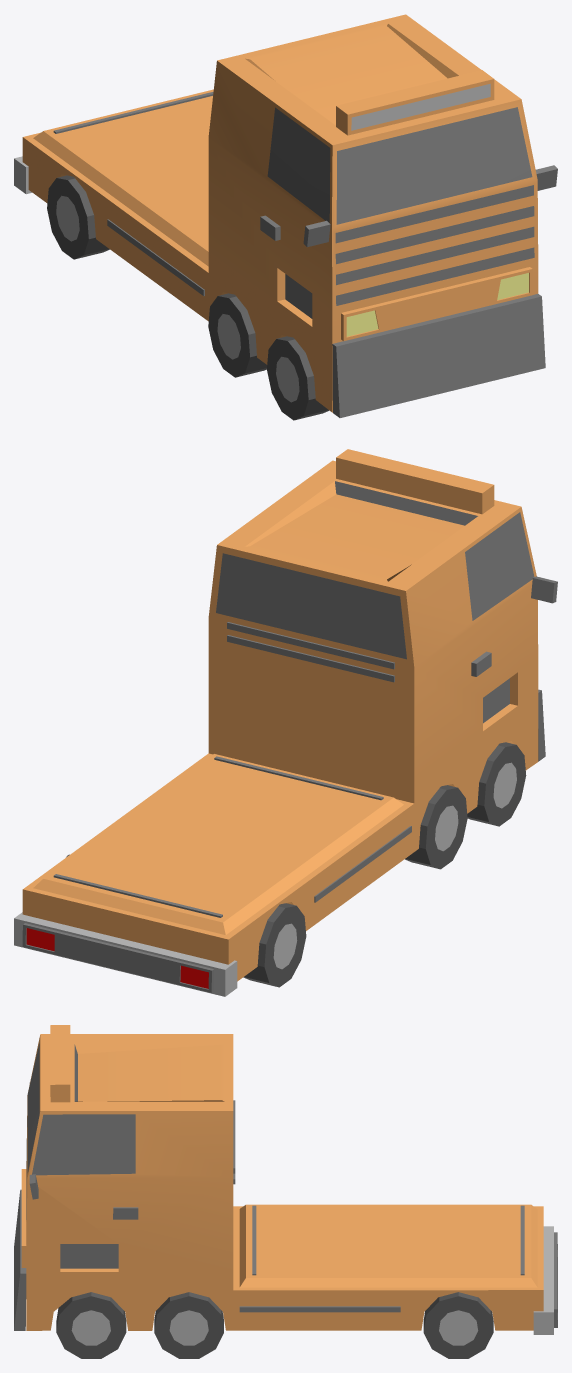
Rendered from SM_Truck_01_02.FBX.
3 views of the same model, one above another, from view 1: azimuth 30°, elevation 25°; view 2: azimuth 150°, elevation 25°; view 3: azimuth 270°, elevation 25° (orthographic). The views are drawn at different scales.
Visible parts, largest first — view 1: SM_Truck_01_02, SM_Wheel_RBack, SM_Wheel_RFront, SM_Wheel_RMid; view 2: SM_Truck_01_02, SM_Wheel_RMid, SM_Wheel_RBack, SM_Wheel_RFront; view 3: SM_Truck_01_02, SM_Wheel_LFront001, SM_Wheel_LBack, SM_Wheel_LMid.
Part boxes in pixels (x1,y1,x2,y2): SM_Truck_01_02: (14, 14, 557, 417); SM_Wheel_RBack: (47, 175, 109, 259); SM_Wheel_RFront: (267, 336, 328, 420); SM_Wheel_RMid: (208, 293, 267, 377); SM_Truck_01_02: (14, 449, 557, 996); SM_Wheel_RMid: (405, 785, 467, 869); SM_Wheel_RBack: (243, 903, 306, 987); SM_Wheel_RFront: (467, 742, 526, 826); SM_Truck_01_02: (14, 1025, 557, 1334); SM_Wheel_LFront001: (56, 1292, 126, 1358); SM_Wheel_LBack: (423, 1292, 493, 1358); SM_Wheel_LMid: (154, 1292, 223, 1358).
Size of the model in its own units: 1.85 by 2.21 by 4.19.
Materials: 1 (1 with a texture image).
